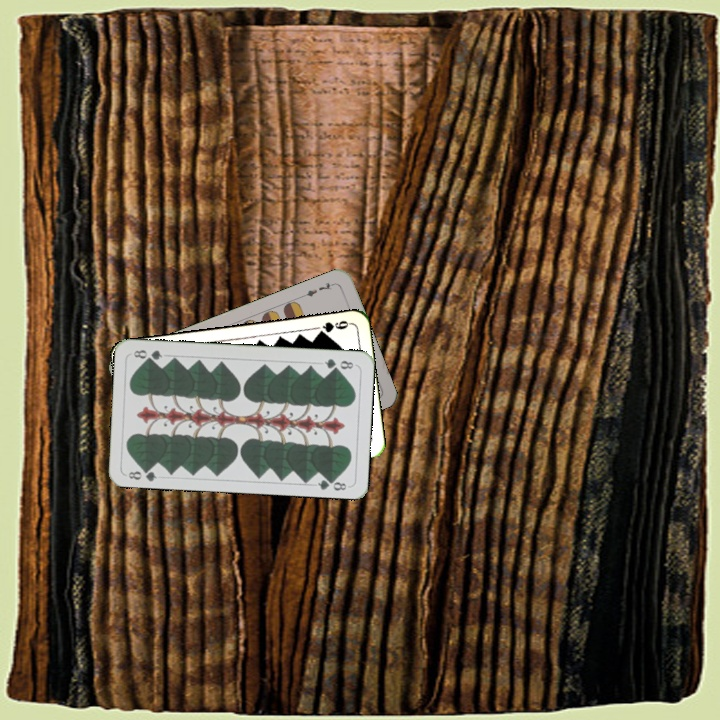E7: (298, 279, 337, 300)
G8: (124, 463, 159, 484), (321, 354, 356, 373)
G9: (313, 316, 353, 338)
